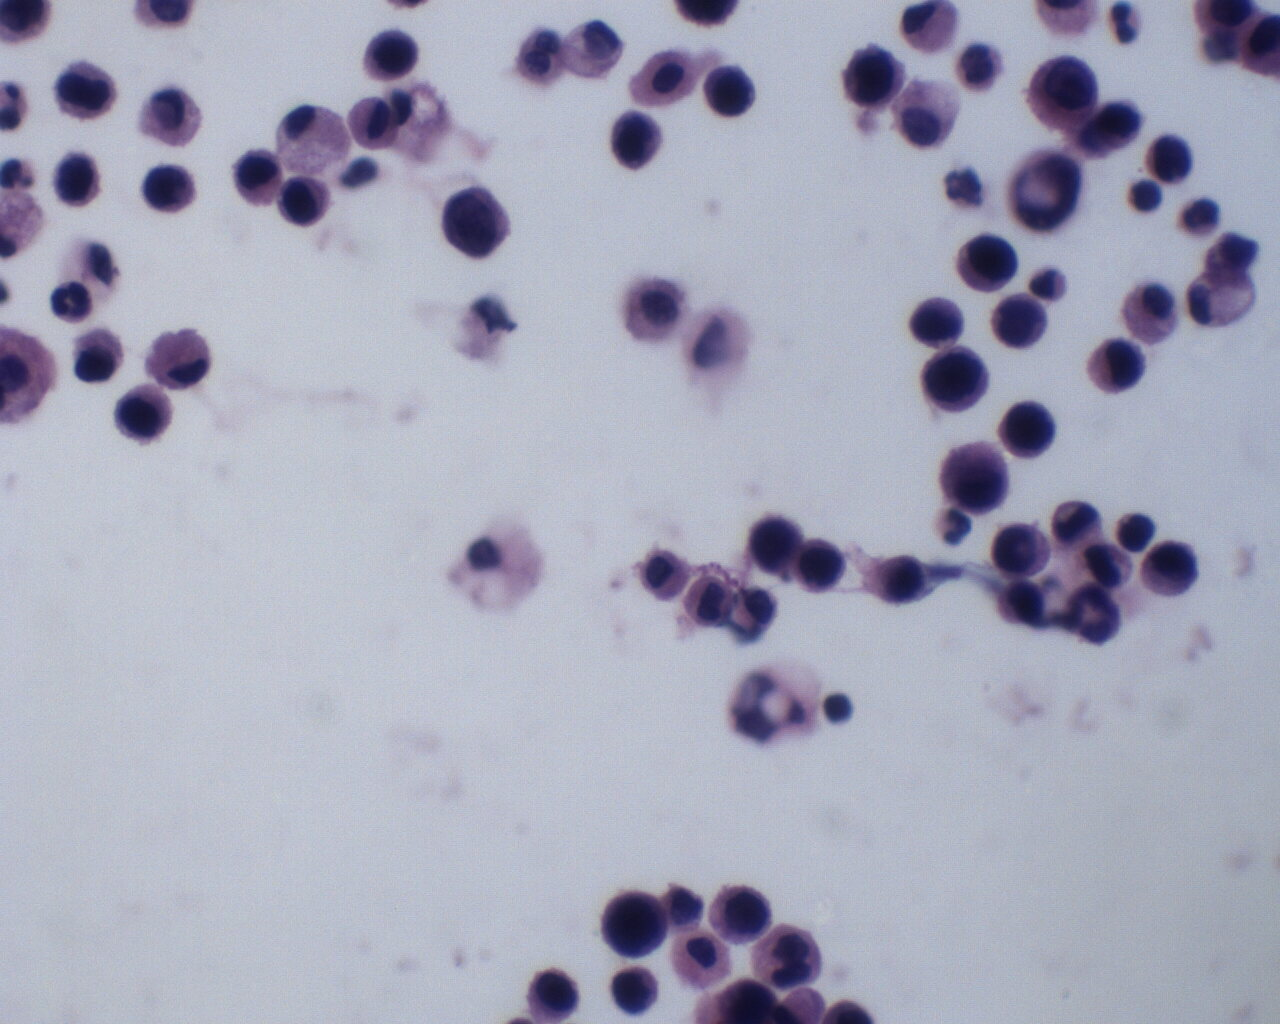ab: (1030, 55, 1108, 134), (440, 182, 512, 260), (936, 442, 1015, 512), (600, 887, 670, 961), (50, 55, 121, 126), (920, 346, 990, 413), (955, 232, 1025, 298), (706, 883, 774, 948), (1139, 538, 1202, 602), (844, 42, 905, 108), (1088, 335, 1149, 398), (109, 385, 174, 443), (229, 144, 284, 212), (998, 398, 1058, 459), (870, 548, 930, 609), (988, 522, 1052, 580), (523, 965, 584, 1024), (610, 110, 665, 174), (992, 294, 1048, 355), (793, 535, 850, 595), (702, 64, 760, 121), (362, 29, 424, 82), (275, 177, 332, 232), (142, 163, 196, 218), (611, 965, 665, 1019), (49, 153, 98, 210), (1145, 127, 1195, 182)
histo: (270, 102, 356, 180), (1190, 263, 1258, 334)
lymph: (824, 684, 857, 730)
meso: (618, 271, 688, 348), (631, 48, 705, 117), (144, 323, 216, 391), (1117, 284, 1183, 345), (671, 930, 735, 990), (638, 546, 692, 605)
neutro: (1104, 1, 1147, 43), (934, 505, 974, 546)
